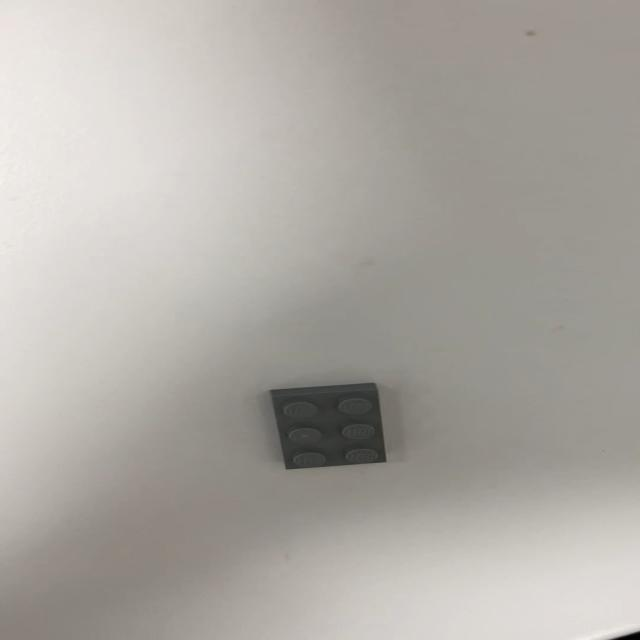C3x2x0: (267, 382, 388, 470)
